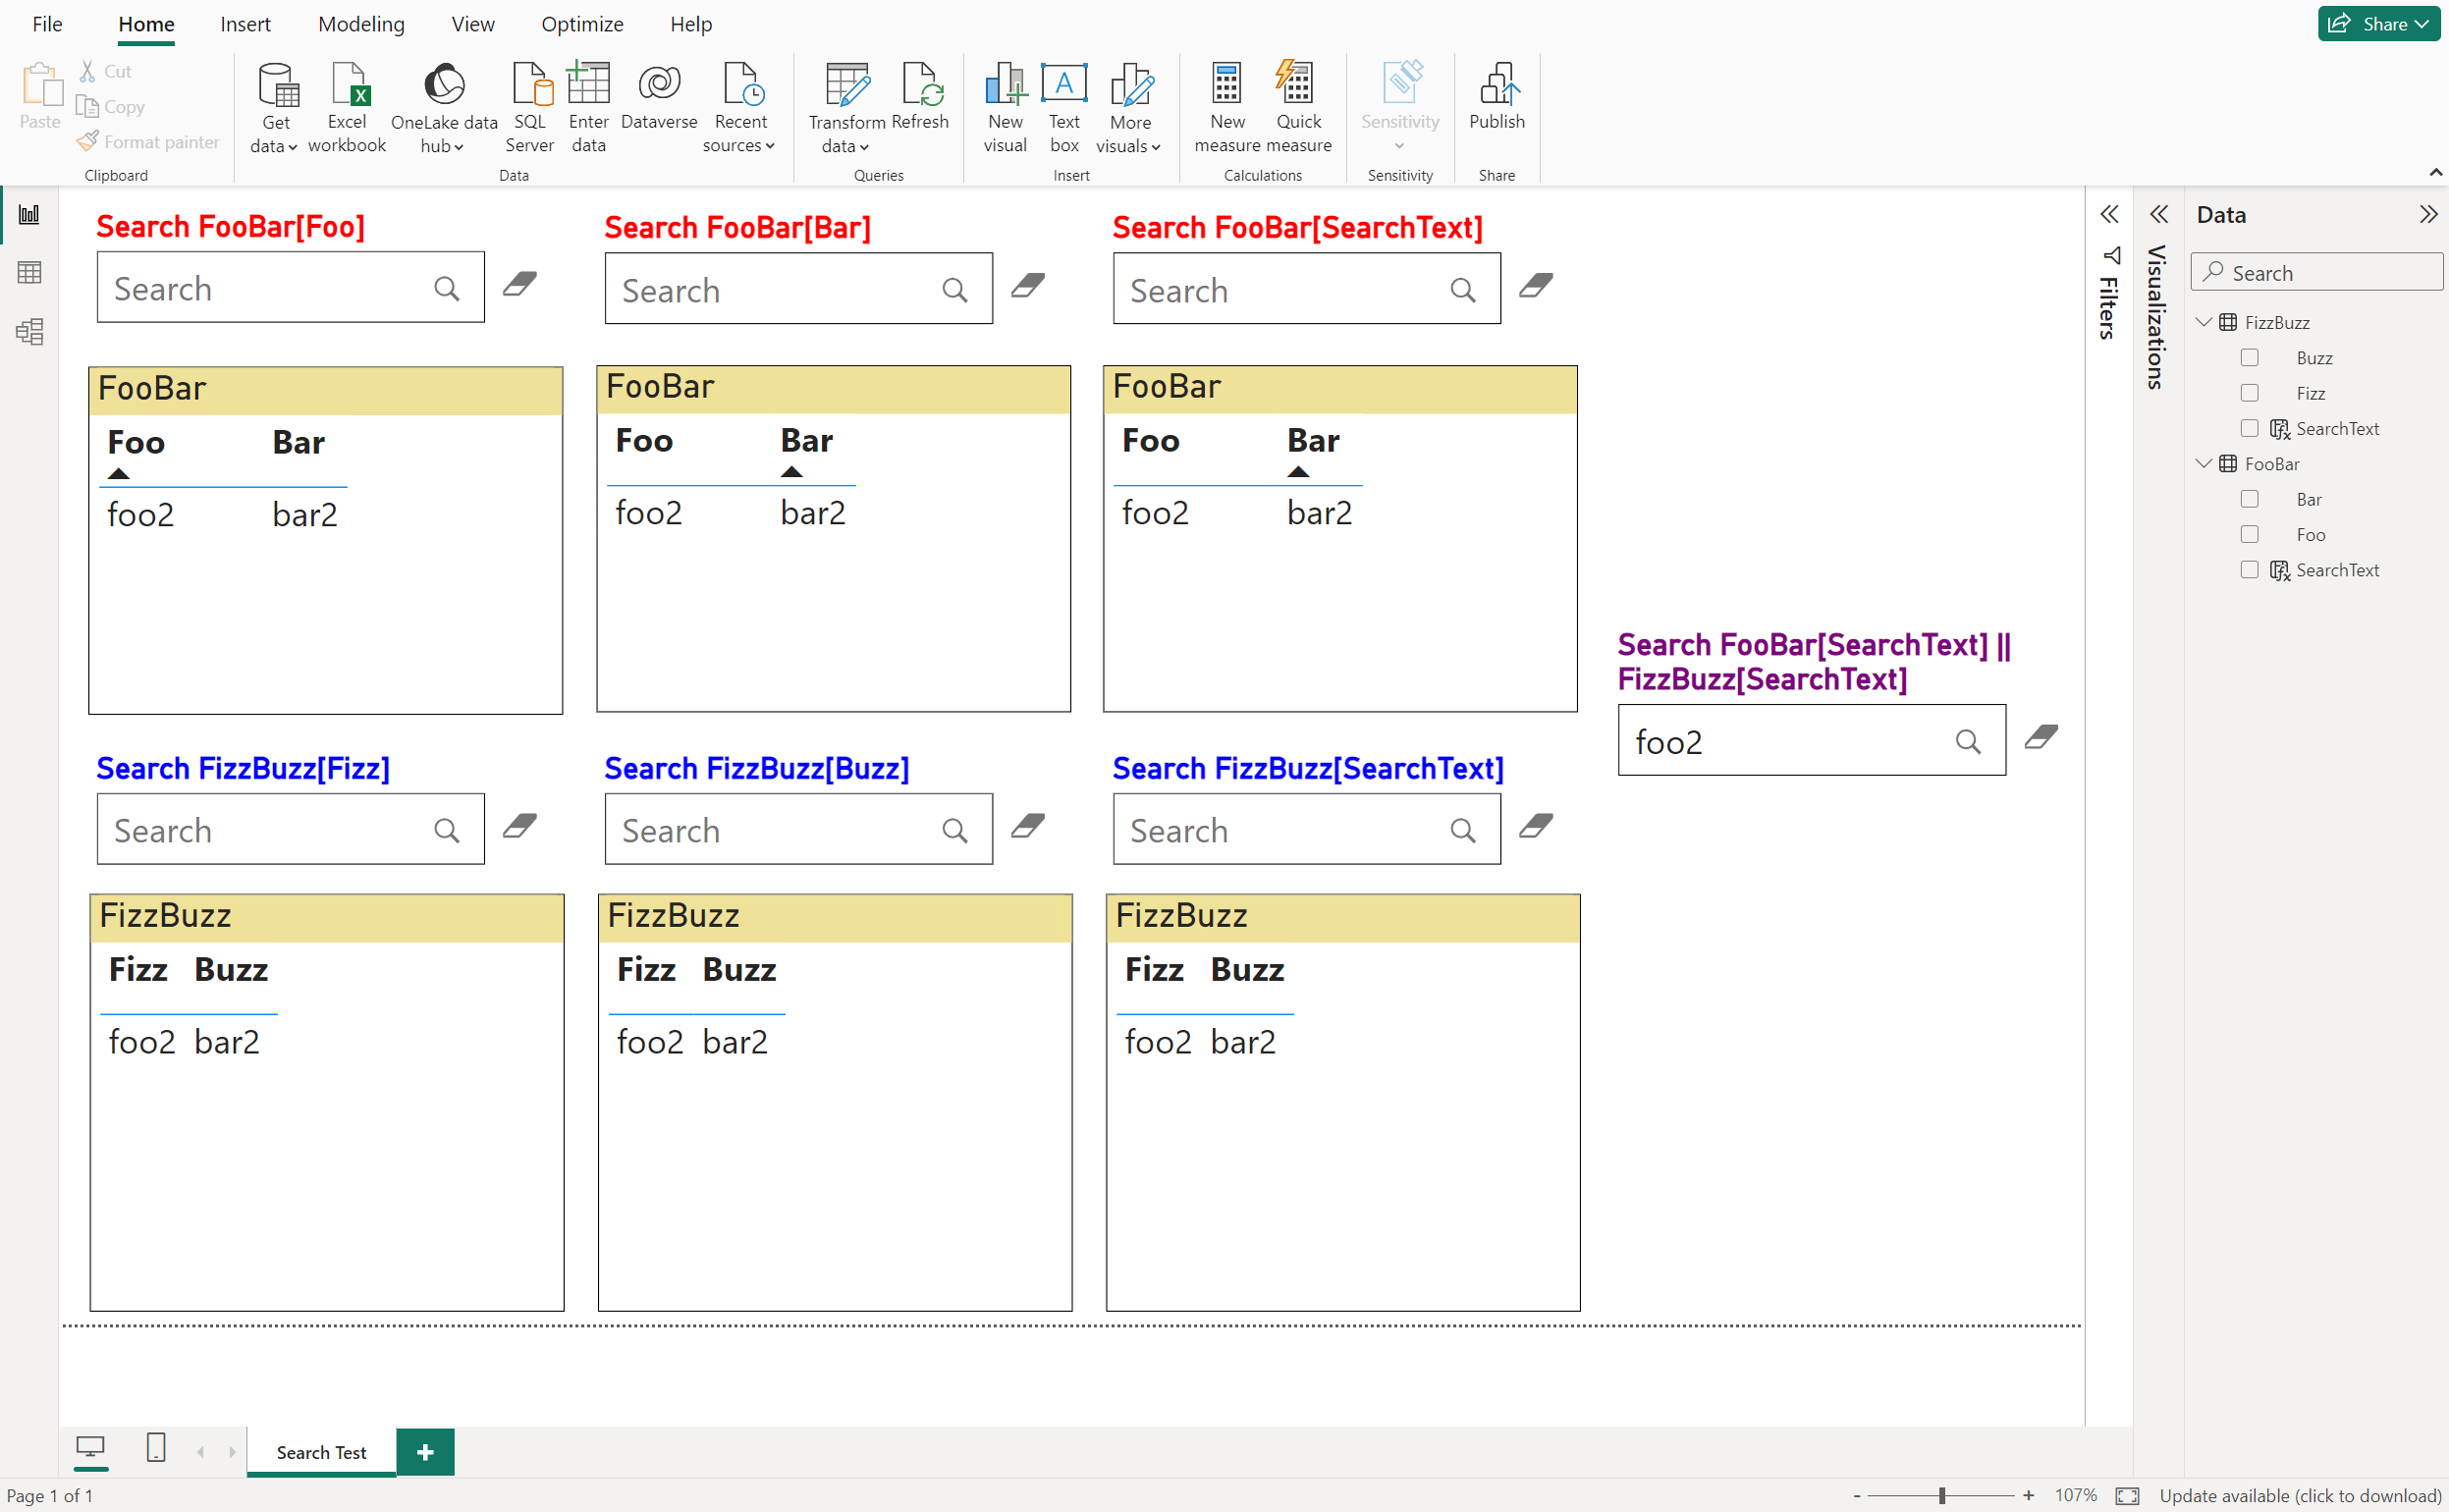

This screenshot's page, from the dashboard's own definition file:
{"tool":"powerbi","page":{"name":"Search Test","canvas":[1280,720],"ordinal":0},"visuals":[{"type":"tableEx","title":"FooBar","fields":{"Values":["FooBar.Foo","FooBar.Bar"]},"box":[18.7,114.5,299.9,219.7],"z":0},{"type":"textFilter25A4896A83E0487089E2B90C9AE57C8A","title":"Search FooBar[Foo]","fields":{"field":["FooBar.Foo"]},"box":[18.9,14.1,300,90],"z":1000},{"type":"tableEx","title":"FooBar","fields":{"Values":["FooBar.Foo","FooBar.Bar"]},"box":[339.3,113.8,300.3,219.5],"z":2000},{"type":"textFilter25A4896A83E0487089E2B90C9AE57C8A","title":"Search FooBar[Bar]","fields":{"field":["FooBar.Bar"]},"box":[340.1,14.5,300,90],"z":3000},{"type":"tableEx","title":"FooBar","fields":{"Values":["FooBar.Foo","FooBar.Bar"]},"box":[660.1,113.8,300.3,219.5],"z":4000},{"type":"textFilter25A4896A83E0487089E2B90C9AE57C8A","title":"Search FooBar[SearchText]","fields":{"field":["FooBar.SearchText"]},"box":[660.9,14.5,300.3,90],"z":5000},{"type":"tableEx","title":"FizzBuzz","fields":{"Values":["FizzBuzz.Fizz","FizzBuzz.Buzz"]},"box":[19.7,447.8,300.3,264.1],"z":6000},{"type":"textFilter25A4896A83E0487089E2B90C9AE57C8A","title":"Search FizzBuzz[Fizz]","fields":{"field":["FizzBuzz.Fizz"]},"box":[18.4,356.1,300,90],"z":7000},{"type":"tableEx","title":"FizzBuzz","fields":{"Values":["FizzBuzz.Fizz","FizzBuzz.Buzz"]},"box":[340.5,447.8,300.3,264.1],"z":8000},{"type":"textFilter25A4896A83E0487089E2B90C9AE57C8A","title":"Search FizzBuzz[Buzz]","fields":{"field":["FizzBuzz.Buzz"]},"box":[339.6,356.5,300,90],"z":9000},{"type":"tableEx","title":"FizzBuzz","fields":{"Values":["FizzBuzz.Fizz","FizzBuzz.Buzz"]},"box":[661.3,447.8,300.3,264.1],"z":10000},{"type":"textFilter25A4896A83E0487089E2B90C9AE57C8A","title":"Search FizzBuzz[SearchText]","fields":{"field":["FizzBuzz.SearchText"]},"box":[660.5,356.5,300.3,90],"z":11000},{"type":"textFilterRSe8c12c3a530441bf833d876d17d39dda","title":"Search FooBar[SearchText] || FizzBuzz[SearchText]","fields":{"field":["Min(FooBar.SearchText)","Min(FizzBuzz.SearchText)"]},"box":[979.8,278,299.9,105.2],"z":11001}]}

Visuals, with their boxes on the page's 1280x720 design canvas (x1, y1, x2, y2). These are canvas units, not pixel positions in the 2449x1512 screenshot, which may show the page scaled, cropped or inside an application window:
"FooBar" tableEx: 19, 114, 319, 334
"Search FooBar[Foo]" textFilter25A4896A83E0487089E2B90C9AE57C8A: 19, 14, 319, 104
"FooBar" tableEx: 339, 114, 640, 333
"Search FooBar[Bar]" textFilter25A4896A83E0487089E2B90C9AE57C8A: 340, 14, 640, 104
"FooBar" tableEx: 660, 114, 960, 333
"Search FooBar[SearchText]" textFilter25A4896A83E0487089E2B90C9AE57C8A: 661, 14, 961, 104
"FizzBuzz" tableEx: 20, 448, 320, 712
"Search FizzBuzz[Fizz]" textFilter25A4896A83E0487089E2B90C9AE57C8A: 18, 356, 318, 446
"FizzBuzz" tableEx: 340, 448, 641, 712
"Search FizzBuzz[Buzz]" textFilter25A4896A83E0487089E2B90C9AE57C8A: 340, 356, 640, 446
"FizzBuzz" tableEx: 661, 448, 962, 712
"Search FizzBuzz[SearchText]" textFilter25A4896A83E0487089E2B90C9AE57C8A: 660, 356, 961, 446
"Search FooBar[SearchText] || FizzBuzz[SearchText]" textFilterRSe8c12c3a530441bf833d876d17d39dda: 980, 278, 1280, 383
